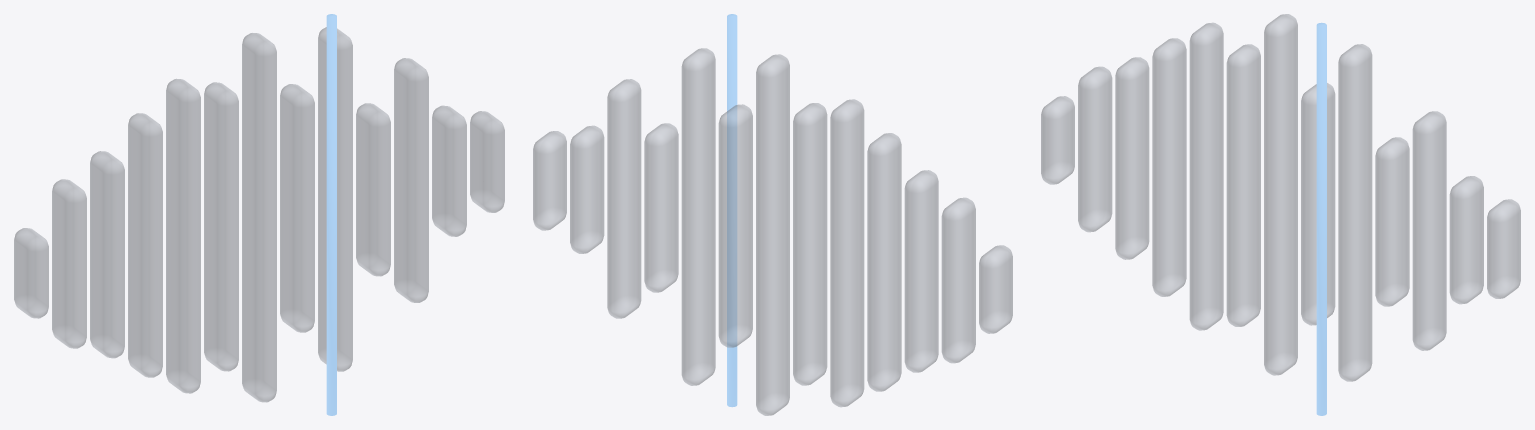
File: doublage.glb
3 renders of one model, left to right at view 1: azimuth 30°, elevation 25°; view 2: azimuth 150°, elevation 25°; view 3: azimuth 330°, elevation 25°, orthographic. The views are drawn at different scales.
Parts seen in each view (by area): view 1: barre6, barre4, barre5, barre3, barre7, barre8, barre10, barre2, barre9, barre1, lecture, barre11 (+2 smaller); view 2: barre6, barre8, barre4, barre5, barre3, barre7, barre10, barre2, barre9, barre1, lecture, barre11 (+2 smaller); view 3: barre6, barre8, barre4, barre5, barre3, barre10, barre2, barre7, barre9, barre1, lecture, barre11 (+2 smaller).
Boxes of the visible parts, x1=… form: barre6: x1=242, y1=33, x2=276, y2=402; barre4: x1=166, y1=79, x2=200, y2=393; barre5: x1=204, y1=82, x2=238, y2=371; barre3: x1=128, y1=113, x2=162, y2=377; barre7: x1=280, y1=84, x2=314, y2=332; barre8: x1=318, y1=27, x2=352, y2=371; barre10: x1=394, y1=58, x2=428, y2=302; barre2: x1=90, y1=151, x2=124, y2=358; barre9: x1=356, y1=103, x2=390, y2=276; barre1: x1=52, y1=179, x2=86, y2=348; lecture: x1=326, y1=14, x2=336, y2=415; barre11: x1=432, y1=105, x2=466, y2=236; barre6: x1=756, y1=54, x2=789, y2=415; barre8: x1=681, y1=48, x2=715, y2=385; barre4: x1=830, y1=99, x2=864, y2=407; barre5: x1=793, y1=103, x2=827, y2=385; barre3: x1=867, y1=133, x2=901, y2=391; barre7: x1=718, y1=104, x2=752, y2=347; barre10: x1=607, y1=79, x2=641, y2=318; barre2: x1=904, y1=170, x2=938, y2=372; barre9: x1=644, y1=123, x2=678, y2=292; barre1: x1=941, y1=197, x2=975, y2=363; lecture: x1=727, y1=14, x2=737, y2=407; barre11: x1=570, y1=125, x2=604, y2=253; barre6: x1=1264, y1=14, x2=1297, y2=375; barre8: x1=1338, y1=44, x2=1372, y2=381; barre4: x1=1189, y1=22, x2=1223, y2=330; barre5: x1=1226, y1=44, x2=1260, y2=326; barre3: x1=1152, y1=38, x2=1186, y2=296; barre10: x1=1412, y1=111, x2=1446, y2=350; barre2: x1=1115, y1=57, x2=1149, y2=259; barre7: x1=1301, y1=83, x2=1335, y2=325; barre9: x1=1375, y1=137, x2=1409, y2=306; barre1: x1=1078, y1=66, x2=1112, y2=232; lecture: x1=1316, y1=22, x2=1326, y2=415; barre11: x1=1449, y1=176, x2=1483, y2=304.
Bounding box in the file's own units: 1.26 × 1 × 0.132.
